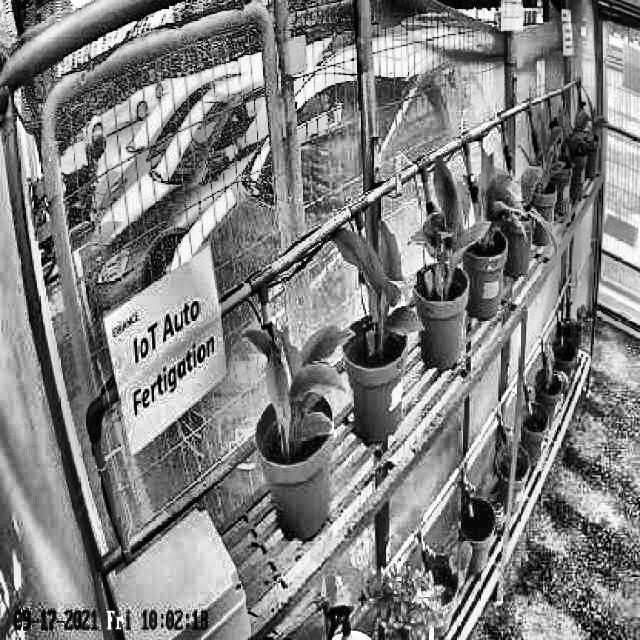plants: (328, 223, 426, 339), (245, 330, 353, 433), (412, 160, 478, 286), (477, 148, 525, 250)
